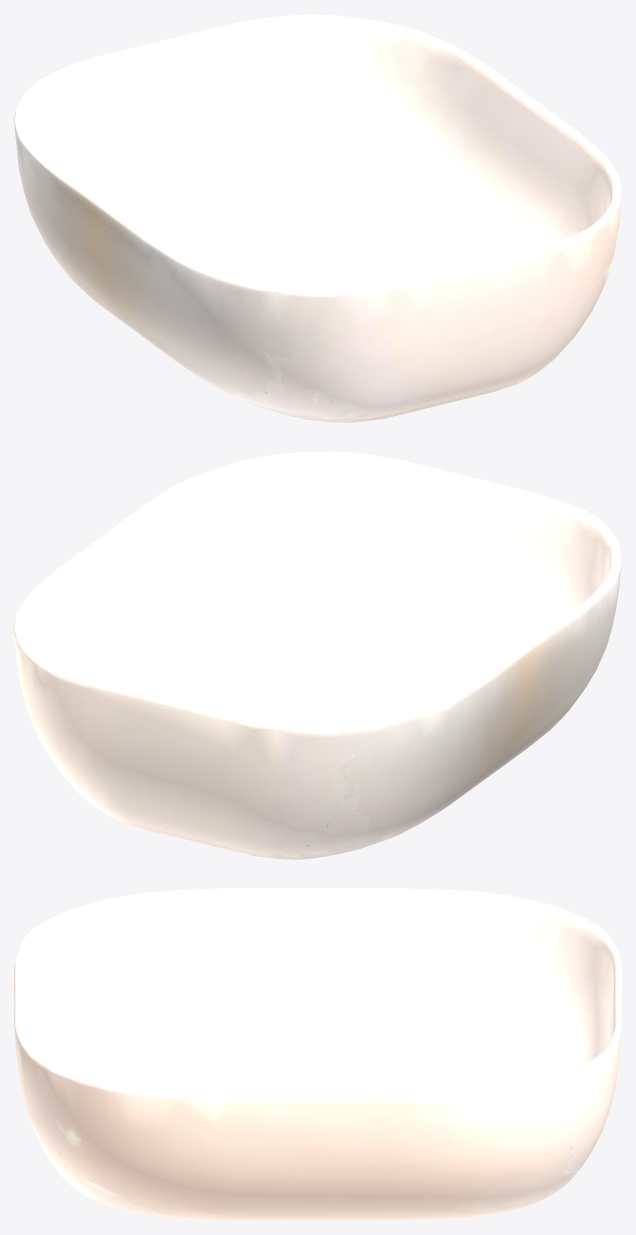
File: Over_Counter_Amazon_Mate_White.glb
3 renders of one model, top to bottom at view 1: azimuth 30°, elevation 25°; view 2: azimuth 150°, elevation 25°; view 3: azimuth 270°, elevation 25°, orthographic.
Visible parts, largest first — view 1: Over_Counter_Amazon_Mate_White; view 2: Over_Counter_Amazon_Mate_White; view 3: Over_Counter_Amazon_Mate_White.
Part boxes in pixels (bbox=[...]): Over_Counter_Amazon_Mate_White: bbox=[14, 14, 621, 422]; Over_Counter_Amazon_Mate_White: bbox=[14, 451, 621, 859]; Over_Counter_Amazon_Mate_White: bbox=[14, 888, 621, 1220].
Size of the model in its own units: 0.4025 by 0.1516 by 0.4931.
1 material, 1 textured.
